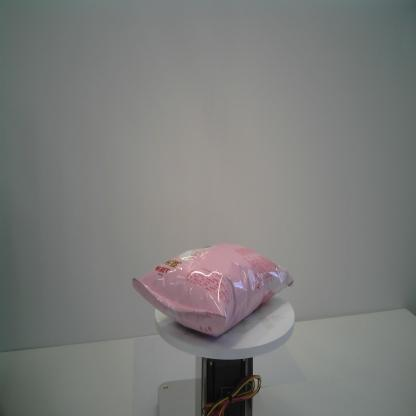Puffed Food: (131, 240, 294, 338)
